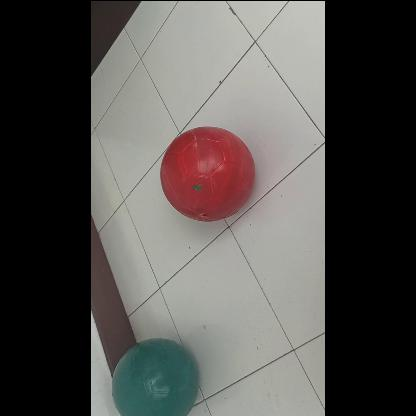red_ball: (160, 126, 256, 221)
